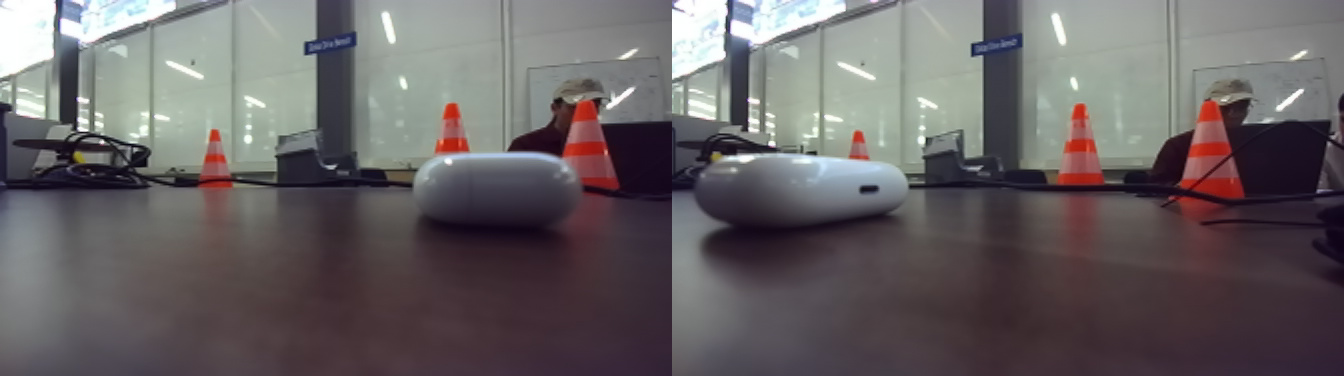cone: (1174, 80, 1261, 235), (559, 85, 638, 210), (1056, 97, 1130, 211), (419, 93, 491, 172), (186, 127, 249, 199), (837, 126, 883, 182)
